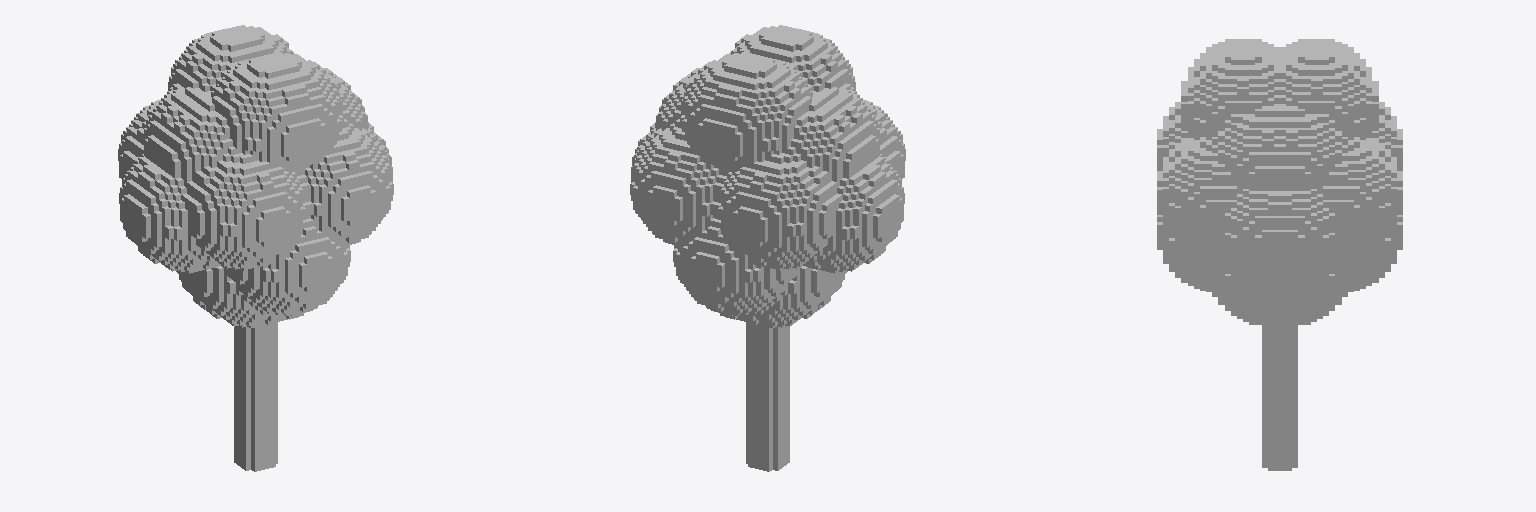
Rendered from tree_2.obj.
3 renders of one model, left to right at view 1: azimuth 30°, elevation 25°; view 2: azimuth 150°, elevation 25°; view 3: azimuth 270°, elevation 25°, orthographic.
Parts seen in each view (by area): view 1: object 1; view 2: object 1; view 3: object 1.
Boxes of the visible parts, x1=… form: object 1: x1=118, y1=25, x2=393, y2=471; object 1: x1=630, y1=25, x2=905, y2=471; object 1: x1=1157, y1=39, x2=1402, y2=470.
Size of the model in its own units: 4.6 by 7.4 by 4.